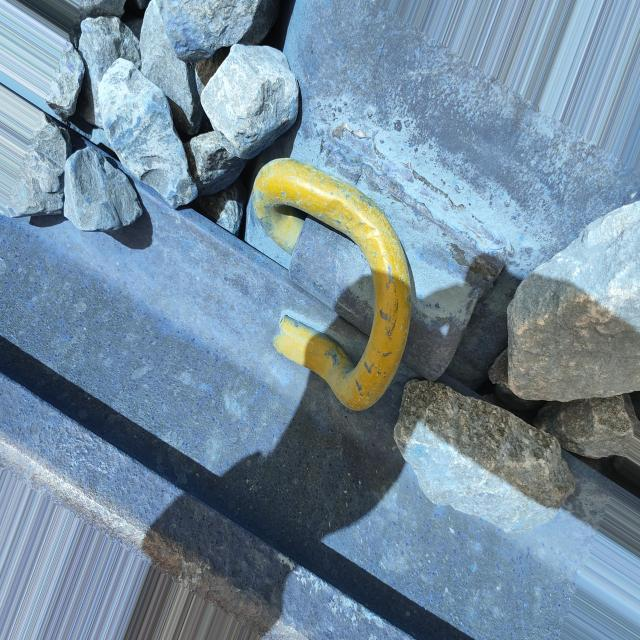Good Fasteners: (248, 126, 510, 410)
